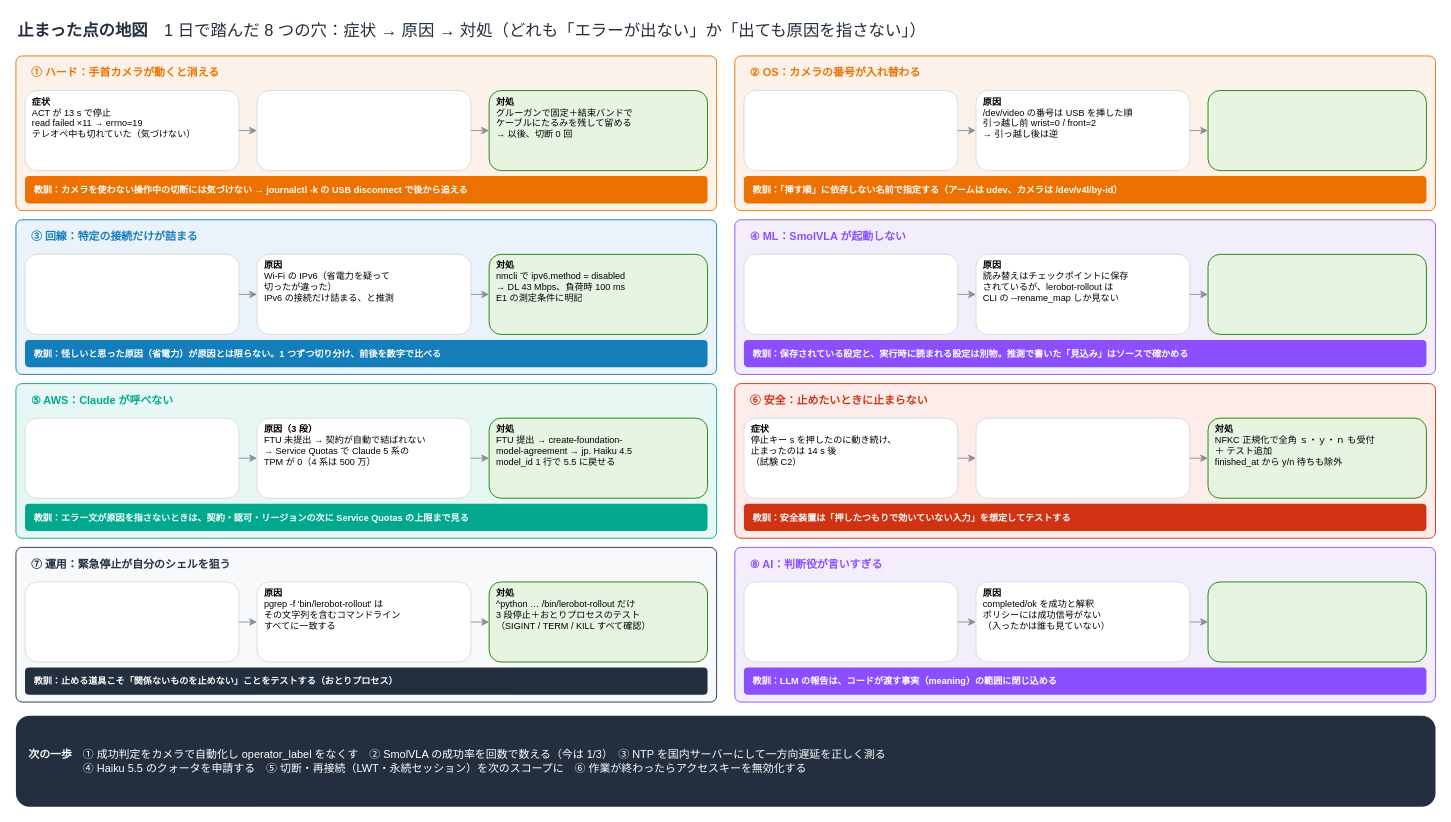
Image size: 1451x822. Some labels were removed from this diagram. Each missing label, with the centre of its shape:
原因 カメラ基板のコネクタの緩み journalctl -k：usb 3-2 disconnect が 1 日に 3 回、すべてアームが動いた時: the point at 363,130
原因 日本語入力のままで全角「ｓ」 コードは半角 s しか見ていなかった: the point at 1082,457
対処 /dev/v4l/by-id/（製品名＋シリアル）で指定 アームは udev でシリアル番号から 固定名 → 引っ越しでも無修正: the point at 1316,130
対処 get_result に meaning をコードで付与 label = success の時だけ成功と言う → 実機 3/3 判定どおり: the point at 1316,621
対処 学習と同じ --rename_map を渡す front→camera1 / wrist→camera2 （逆でもエラーにならない点に注意）: the point at 1316,293
症状 AccessDeniedException 「not available for this account」 契約・認可・リージョンは全部 OK: the point at 131,457
症状 FakeRunner（何も動かない）でも 「完了しました！…片付けました」: the point at 850,621
症状 Hub から 207 MB が 10 KB/s fast.com：DL 13 Mbps、負荷時 1.2 s つなぎ直すと一気に速い: the point at 131,293
症状 Visual feature mismatch expects camera1/2/3 provides wrist/front: the point at 850,293
症状 なし（エラーは出ない） 手首と俯瞰の映像が逆のまま ポリシーに渡る: the point at 850,130
症状 偽プロセスで試験したら、 試験を流したシェルにも SIGINT （その後もう 1 回同じ穴）: the point at 131,621
